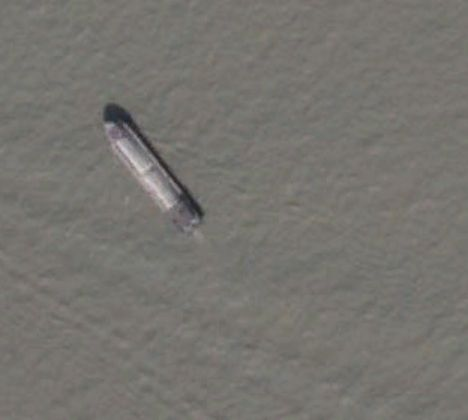boat: (101, 111, 204, 239)
